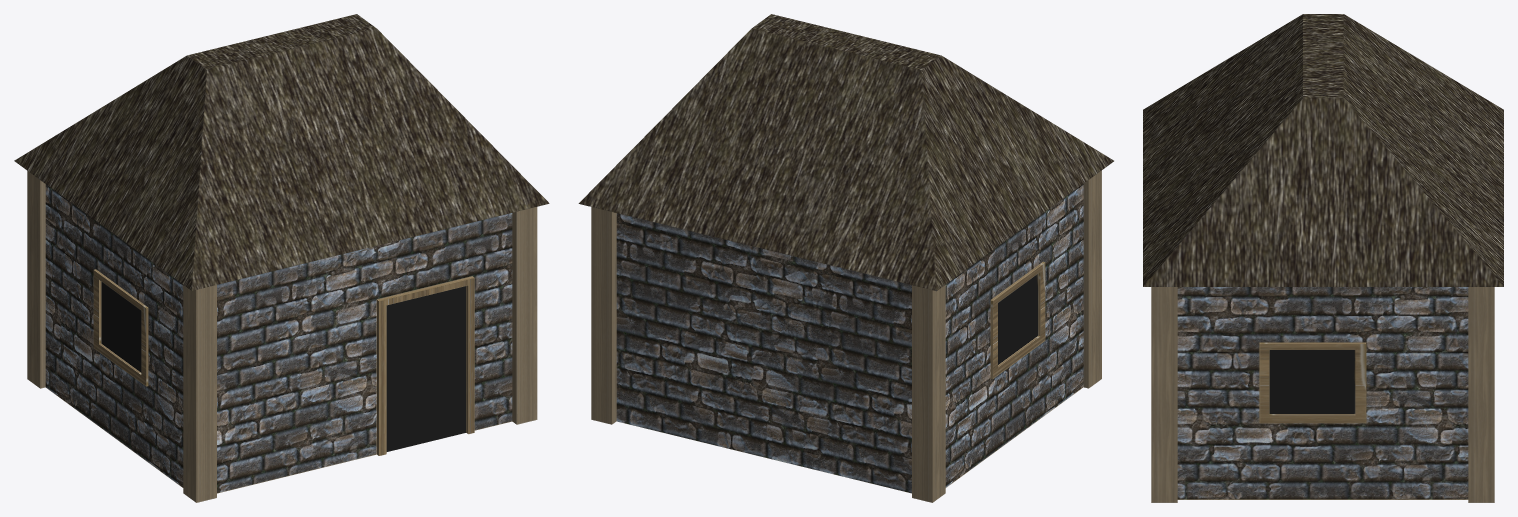
Rendered from cottage.fbx.
3 views of the same model, side by side, from view 1: azimuth 30°, elevation 25°; view 2: azimuth 150°, elevation 25°; view 3: azimuth 270°, elevation 25° (orthographic).
Visible parts, largest first — view 1: pCube4, pCube2, pCube6, pCube5, pCube7; view 2: pCube4, pCube2, pCube7, pCube8, pCube6; view 3: pCube2, pCube4, pCube5, pCube8.
Part boxes in pixels (bbox=[...]): pCube4: bbox=[45, 184, 512, 493]; pCube2: bbox=[14, 14, 549, 290]; pCube6: bbox=[183, 285, 216, 502]; pCube5: bbox=[512, 207, 537, 424]; pCube7: bbox=[27, 171, 45, 388]; pCube4: bbox=[616, 184, 1083, 493]; pCube2: bbox=[578, 14, 1113, 291]; pCube7: bbox=[912, 285, 945, 502]; pCube8: bbox=[591, 207, 616, 424]; pCube6: bbox=[1083, 170, 1101, 388]; pCube2: bbox=[1143, 14, 1503, 286]; pCube4: bbox=[1177, 287, 1468, 499]; pCube5: bbox=[1151, 287, 1177, 502]; pCube8: bbox=[1468, 287, 1494, 502].
Bounding box in the file's own units: 13.64 × 13 × 11.72.
